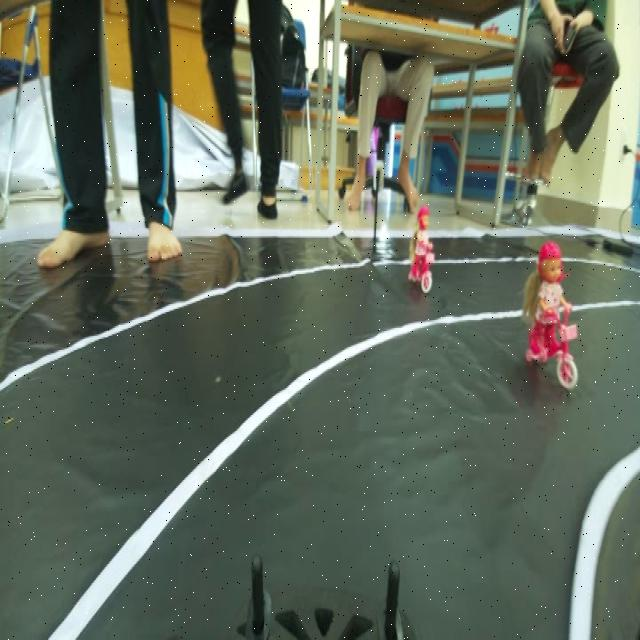pedestrian: (518, 222, 584, 385), (407, 204, 435, 298)
